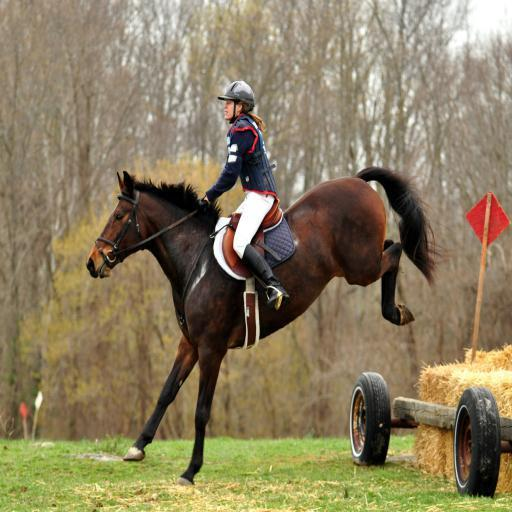horse: (85, 168, 460, 486)
